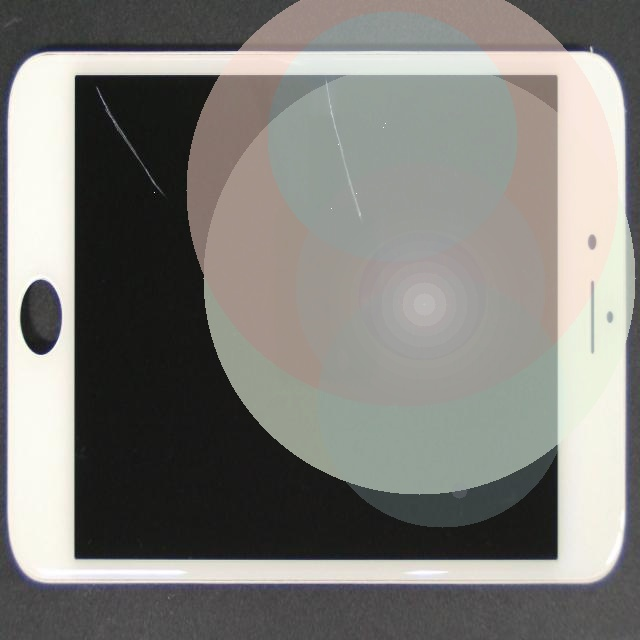scratch: (177, 27, 485, 104), (112, 139, 217, 209)
